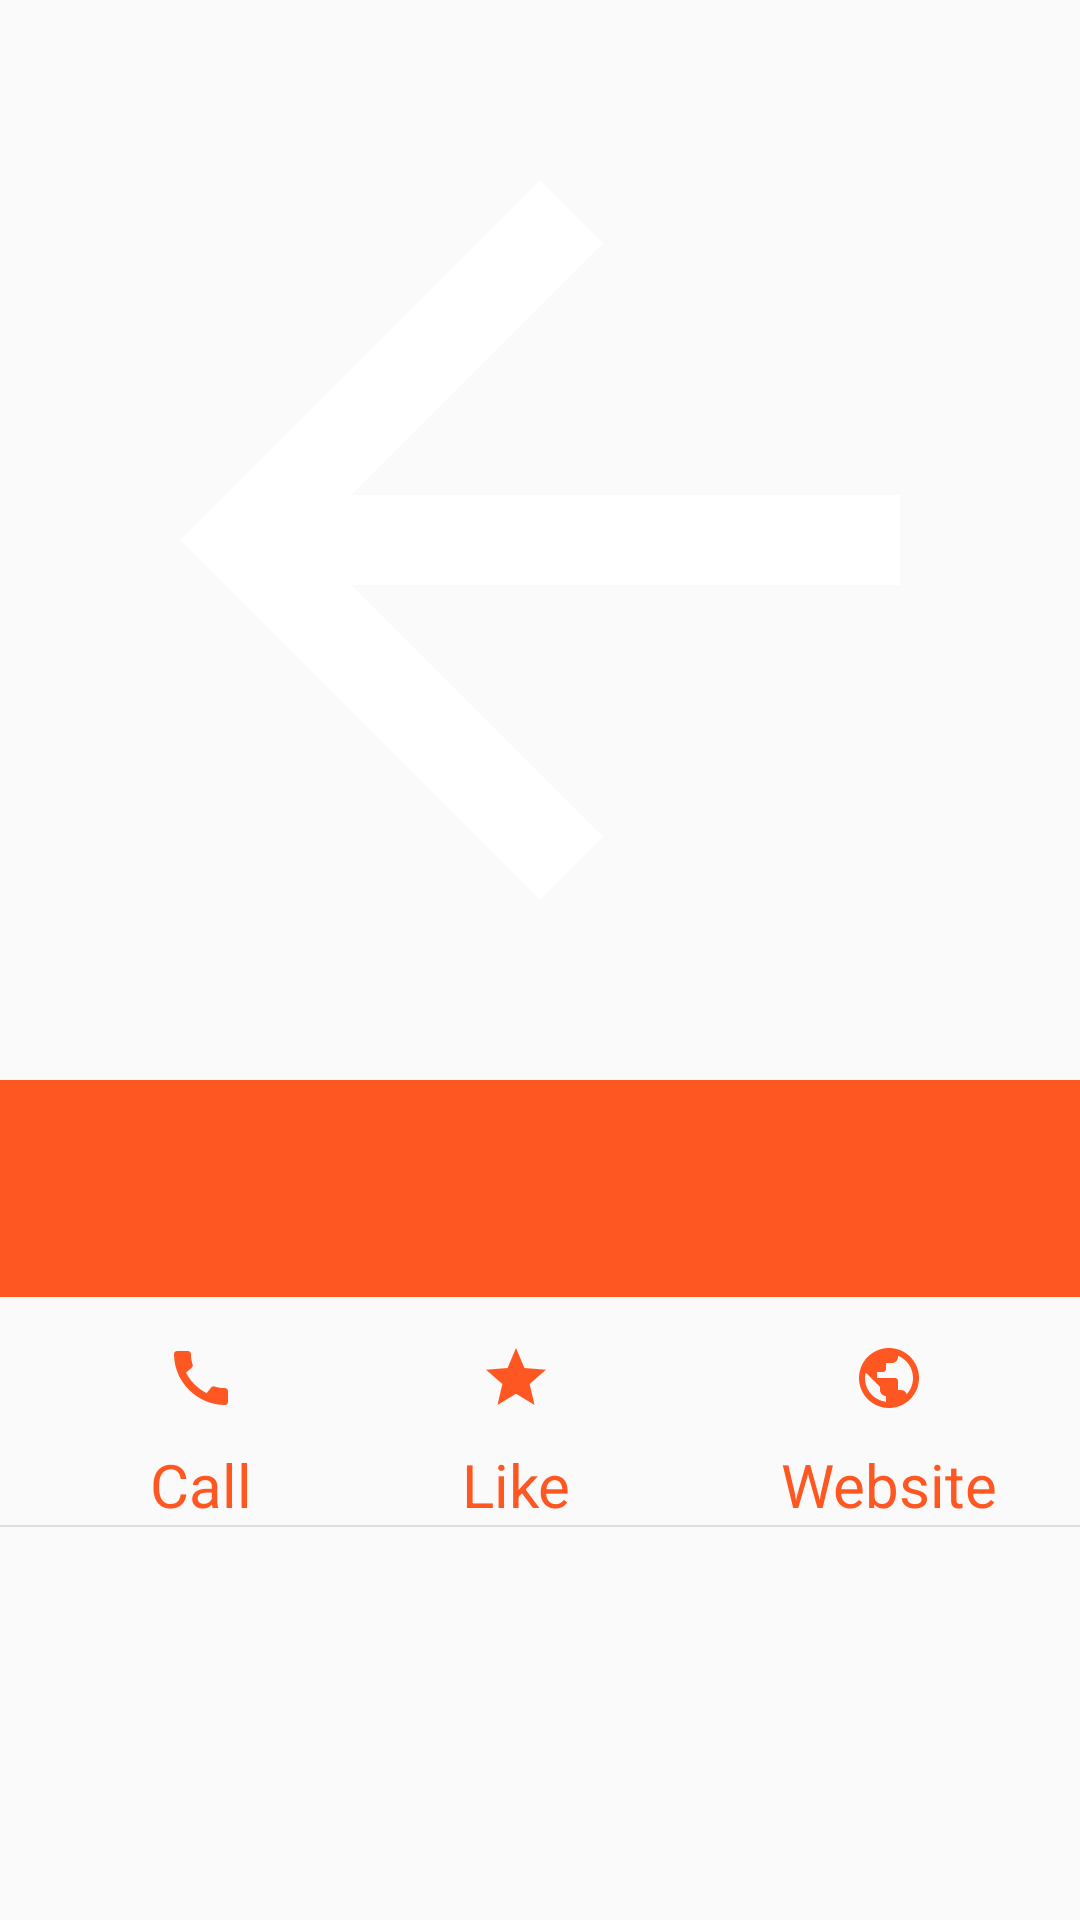

Where icons sit on this 1080w x 1920h app screen, as bbox(x1, y1, x2, y2):
public: bbox(859, 1348, 919, 1408)
star: bbox(486, 1348, 546, 1405)
